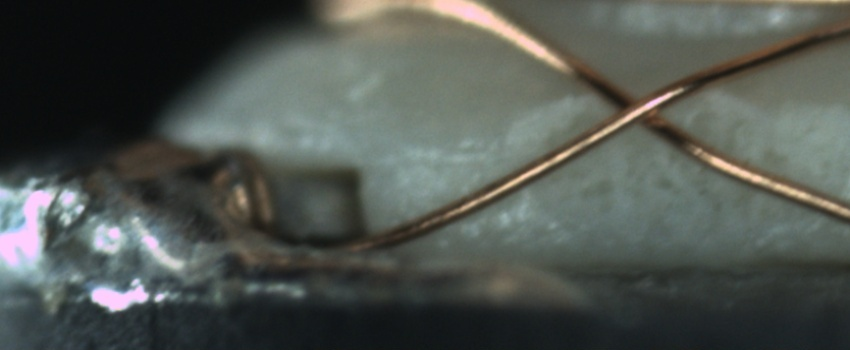CL: (587, 73, 686, 144)
DL: (398, 124, 504, 188)
TE: (227, 149, 292, 240)
